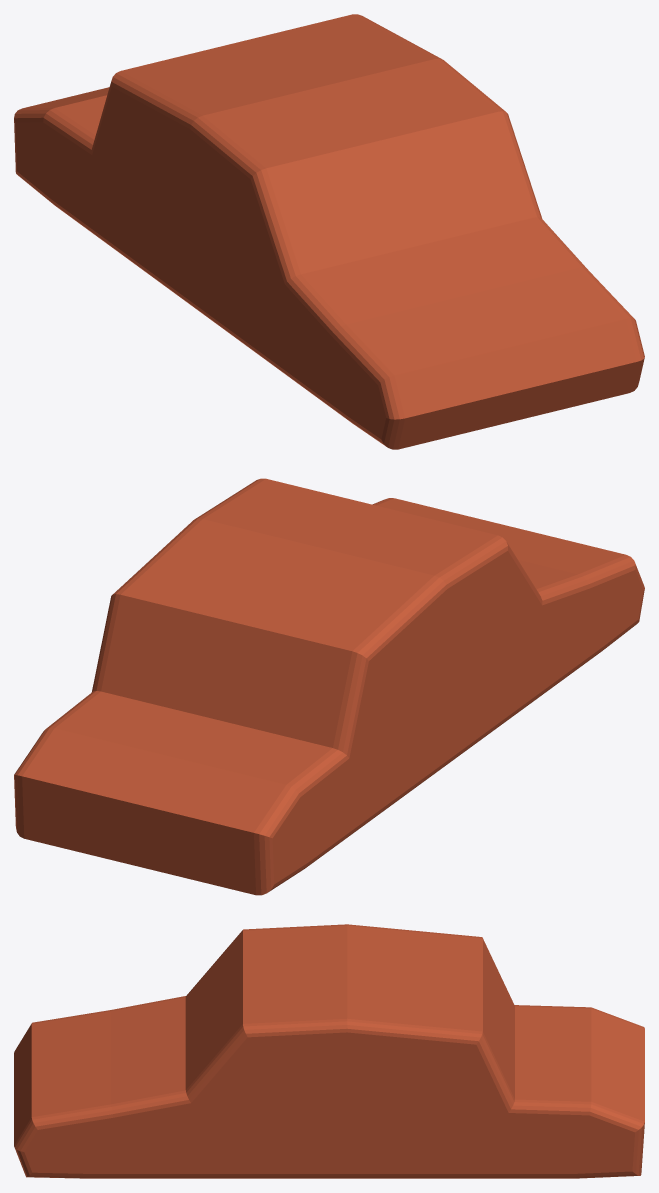
File: car-gt.glb
3 renders of one model, top to bottom at view 1: azimuth 30°, elevation 25°; view 2: azimuth 150°, elevation 25°; view 3: azimuth 270°, elevation 25°, orthographic. The views are drawn at different scales.
Visible parts, largest first — view 1: body; view 2: body; view 3: body.
Part boxes in pixels (x1,y1,x2,y2): body: (14,14,644,449); body: (14,478,644,895); body: (14,924,644,1178).
Bounding box in the file's own units: 1.82 × 1.3 × 4.69.
